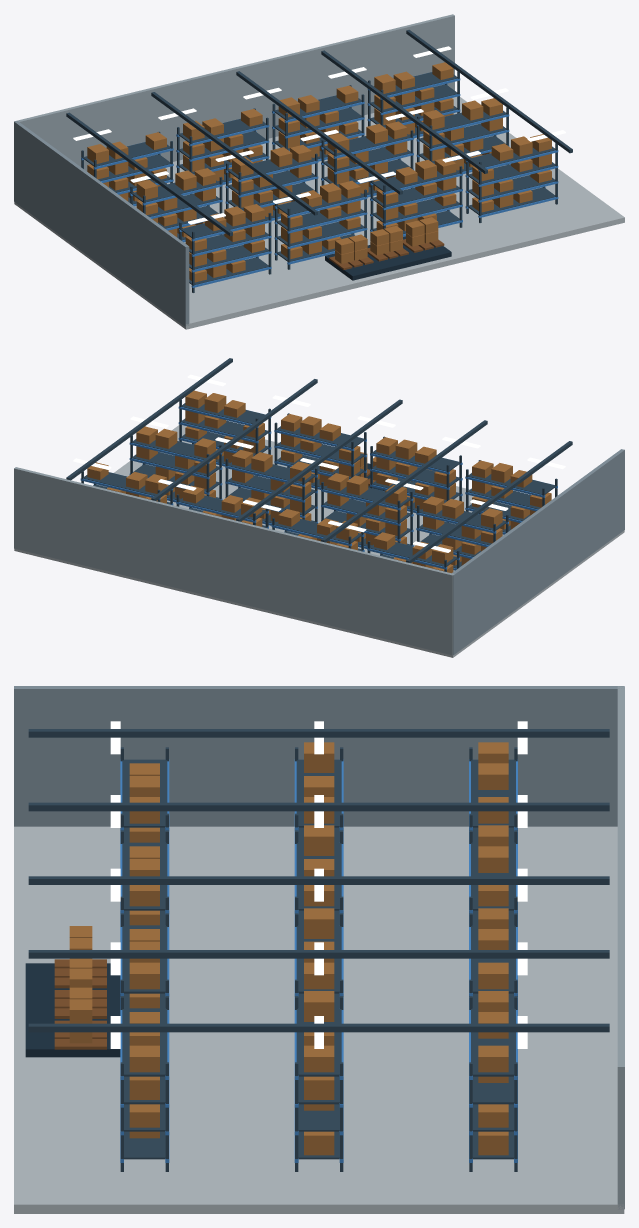
The model's file is warehouse-finished-goods.glb.
3 views of the same model, one above another, from view 1: azimuth 30°, elevation 25°; view 2: azimuth 150°, elevation 25°; view 3: azimuth 270°, elevation 25° (orthographic). The views are drawn at different scales.
Visible parts, largest first — view 1: BackWall, Floor, LeftWall, Zone_F4_Rack_3_Shelf (×4), Zone_F1_Rack_3_Shelf (×4), DockPlatform, Zone_F2_Rack_3_Shelf (×3), Zone_F3_Rack_3_Shelf (×3), CeilingBeam_0, CeilingBeam_-6, CeilingBeam_12, CeilingBeam_6 (+9 smaller); view 2: BackWall, LeftWall, Floor, CeilingBeam_-12, CeilingBeam_12, CeilingBeam_-6, CeilingBeam_0, CeilingBeam_6, Zone_F3_Rack_2_Shelf (×2), Zone_F4_Rack_2_Shelf (×2), Zone_F2_Rack_2_Shelf (×2), Zone_F4_Rack_3_Shelf (×2) (+8 smaller); view 3: Floor, LeftWall, CeilingBeam_-6, CeilingBeam_12, CeilingBeam_-12, CeilingBeam_0, CeilingBeam_6, BackWall, DockPlatform, Zone_F4_Rack_2_Cargo (×4), Zone_F4_Rack_1_Cargo (×3), Zone_F4_Rack_3_Cargo (×3) (+19 smaller).
Part boxes in pixels (x1,y1,x2,y2): BackWall: (15, 14, 454, 171); Floor: (14, 97, 624, 329); LeftWall: (14, 121, 189, 326); Zone_F4_Rack_3_Shelf (×4): (468, 146, 555, 214); Zone_F1_Rack_3_Shelf (×4): (181, 216, 268, 284); DockPlatform: (325, 236, 451, 280); Zone_F2_Rack_3_Shelf (×3): (277, 193, 364, 246); Zone_F3_Rack_3_Shelf (×3): (372, 170, 460, 222); CeilingBeam_0: (236, 71, 402, 194); CeilingBeam_-6: (151, 92, 317, 215); CeilingBeam_12: (406, 29, 572, 153); CeilingBeam_6: (321, 50, 487, 173); BackWall: (14, 467, 454, 655); LeftWall: (452, 449, 624, 655); Floor: (14, 425, 624, 657); CeilingBeam_-12: (406, 441, 572, 563); CeilingBeam_12: (66, 358, 232, 480); CeilingBeam_-6: (321, 420, 487, 542); CeilingBeam_0: (236, 399, 402, 521); CeilingBeam_6: (151, 379, 317, 500); Zone_F3_Rack_2_Shelf (×2): (228, 462, 315, 499); Zone_F4_Rack_2_Shelf (×2): (132, 439, 219, 476); Zone_F2_Rack_2_Shelf (×2): (323, 485, 411, 522); Zone_F4_Rack_3_Shelf (×2): (181, 403, 268, 440); Floor: (14, 826, 624, 1213); LeftWall: (14, 686, 624, 826); CeilingBeam_-6: (28, 802, 609, 811); CeilingBeam_12: (28, 1023, 609, 1032); CeilingBeam_-12: (28, 729, 609, 737); CeilingBeam_0: (28, 876, 609, 884); CeilingBeam_6: (28, 950, 609, 958); BackWall: (617, 686, 624, 1209); DockPlatform: (25, 963, 120, 1057); Zone_F4_Rack_2_Cargo (×4): (304, 991, 334, 1155); Zone_F4_Rack_1_Cargo (×3): (478, 1045, 508, 1155); Zone_F4_Rack_3_Cargo (×3): (129, 1045, 159, 1127).
Bounding box in the file's own units: 31.02 × 5.58 × 21.02.
